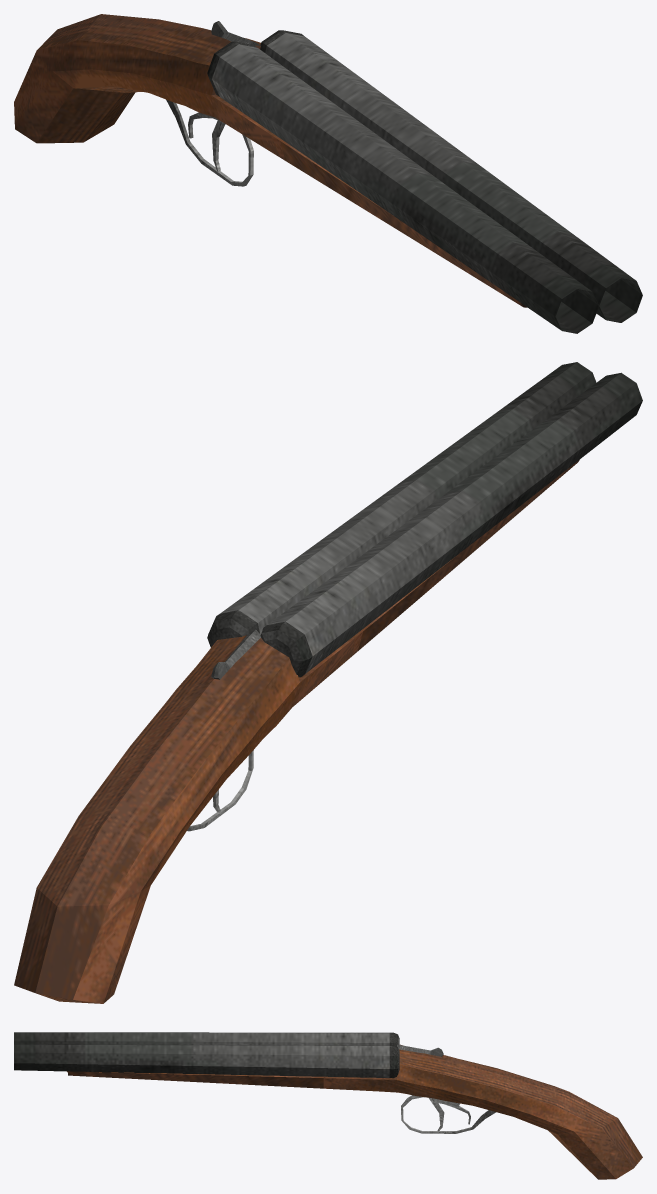
The model's file is sawedoff.obj.
The picture shows the model from 3 angles, top to bottom: view 1: azimuth 30°, elevation 25°; view 2: azimuth 150°, elevation 25°; view 3: azimuth 270°, elevation 25°; orthographic projection. The views are drawn at different scales.
Visible parts, largest first — view 1: Cube.001, Cube, Cylinder.001; view 2: Cube, Cube.001, Cylinder.001; view 3: Cube.001, Cube, Cylinder.001.
Part boxes in pixels (x1,y1,x2,y2): Cube.001: [272, 76, 642, 333]; Cube: [14, 14, 285, 186]; Cylinder.001: [207, 30, 362, 137]; Cube: [14, 629, 362, 1003]; Cube.001: [280, 362, 642, 650]; Cylinder.001: [207, 566, 370, 677]; Cube.001: [14, 1032, 323, 1088]; Cube: [323, 1044, 642, 1179]; Cylinder.001: [323, 1032, 399, 1078].
Size of the model in its own units: 0.4983 by 1.12 by 4.81.
